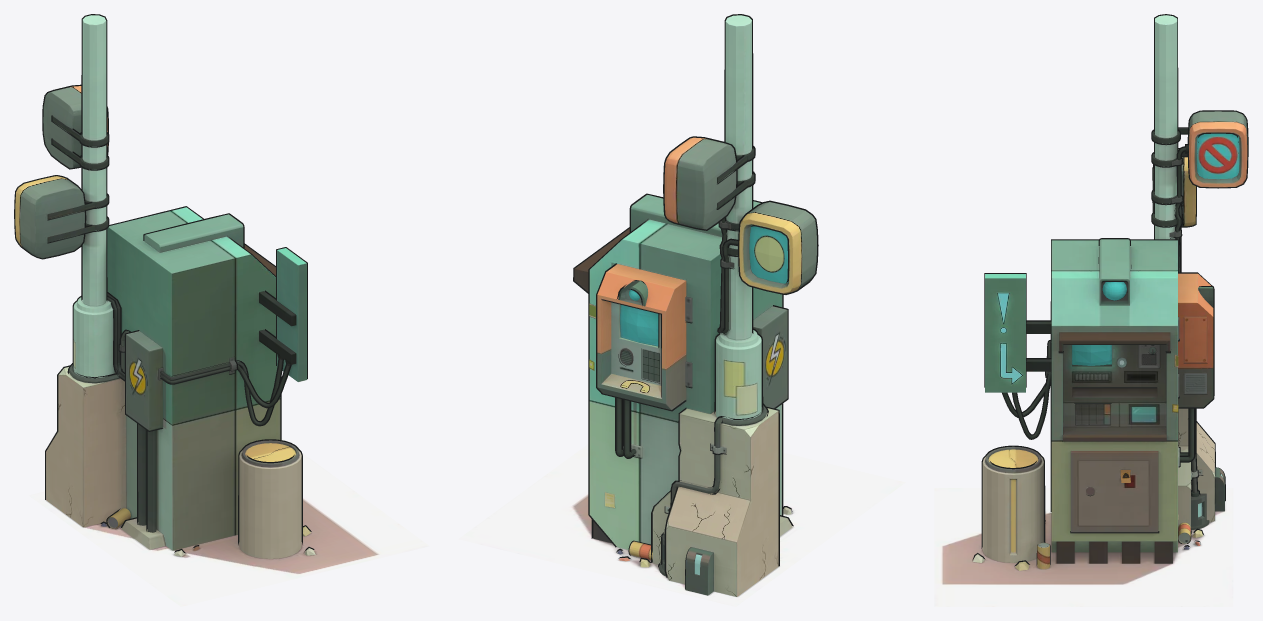
Rendered from atm-transformed.glb.
The picture shows the model from 3 angles, left to right: view 1: azimuth 30°, elevation 25°; view 2: azimuth 150°, elevation 25°; view 3: azimuth 270°, elevation 25°; orthographic projection. The views are drawn at different scales.
Visible parts, largest first — view 1: Object_4, Object_3; view 2: Object_4, Object_3, Object_2; view 3: Object_4, Object_3, Object_2.
Boxes of the visible parts, x1,y1,x2,y2 form: Object_4: [15, 15, 429, 606]; Object_3: [14, 14, 314, 553]; Object_4: [458, 15, 905, 606]; Object_3: [573, 14, 818, 589]; Object_2: [620, 225, 788, 575]; Object_4: [934, 15, 1247, 606]; Object_3: [972, 14, 1248, 566]; Object_2: [1072, 133, 1239, 517].
Size of the model in its own units: 5.09 by 8.48 by 4.98.
3 materials, 2 textured.
